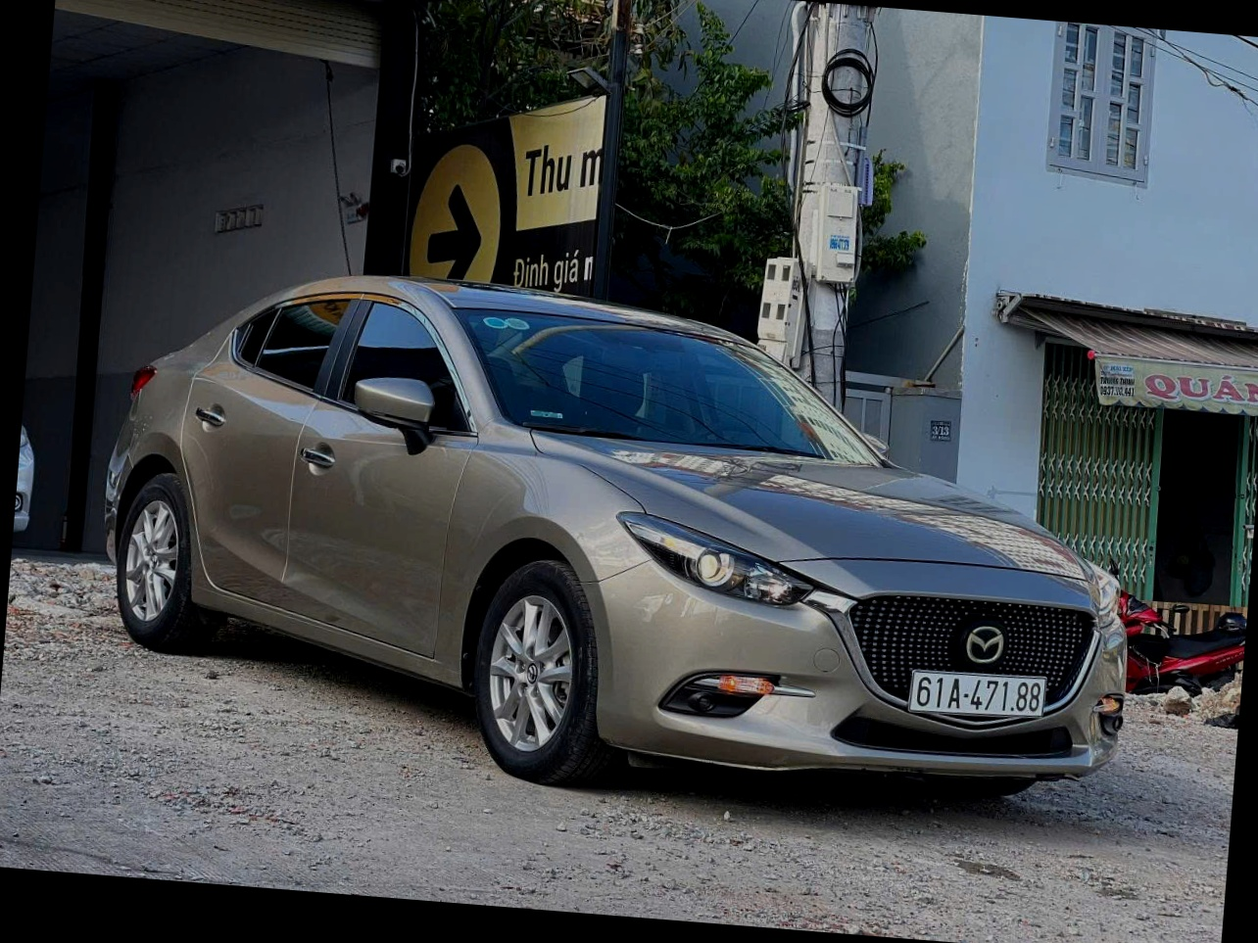Bien-so: (919, 632, 1056, 684)
